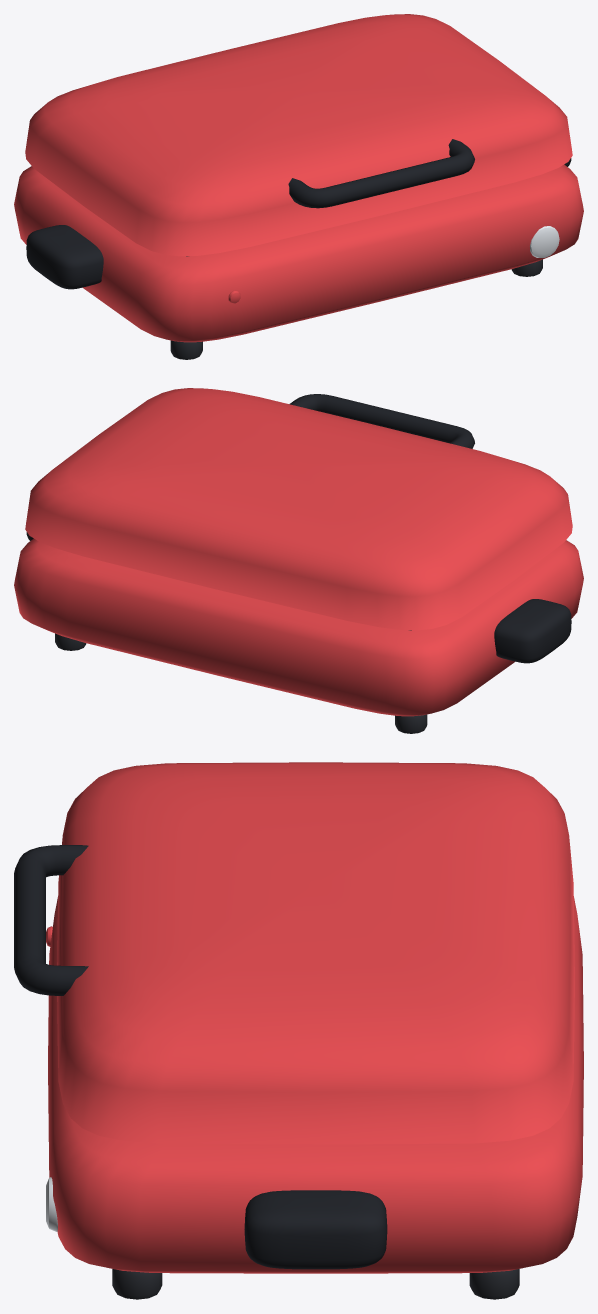
File: grill_bancada_vermelho.glb
3 views of the same model, one above another, from view 1: azimuth 30°, elevation 25°; view 2: azimuth 150°, elevation 25°; view 3: azimuth 270°, elevation 25° (orthographic). The views are drawn at different scales.
Parts seen in each view (by area): view 1: tampa, grill_bancada_vermelho; view 2: tampa, grill_bancada_vermelho; view 3: tampa, grill_bancada_vermelho.
Part boxes in pixels (x1,y1,x2,y2): tampa: (25,14,572,256); grill_bancada_vermelho: (14,158,583,359); tampa: (25,388,572,630); grill_bancada_vermelho: (14,532,583,733); tampa: (14,762,574,1144); grill_bancada_vermelho: (46,896,583,1299).
Bounding box in the file's own units: 0.514 × 0.172 × 0.319.
1 material, 1 textured.
